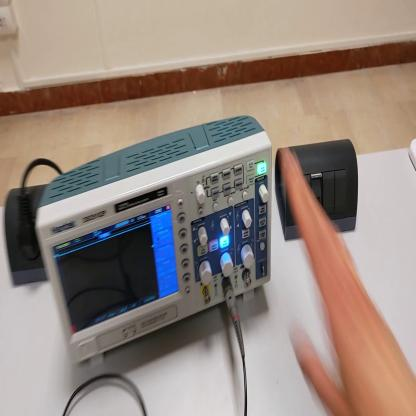hand: (281, 145, 416, 416)
oscilloscope: (30, 113, 273, 374)
socket: (5, 184, 51, 288)
